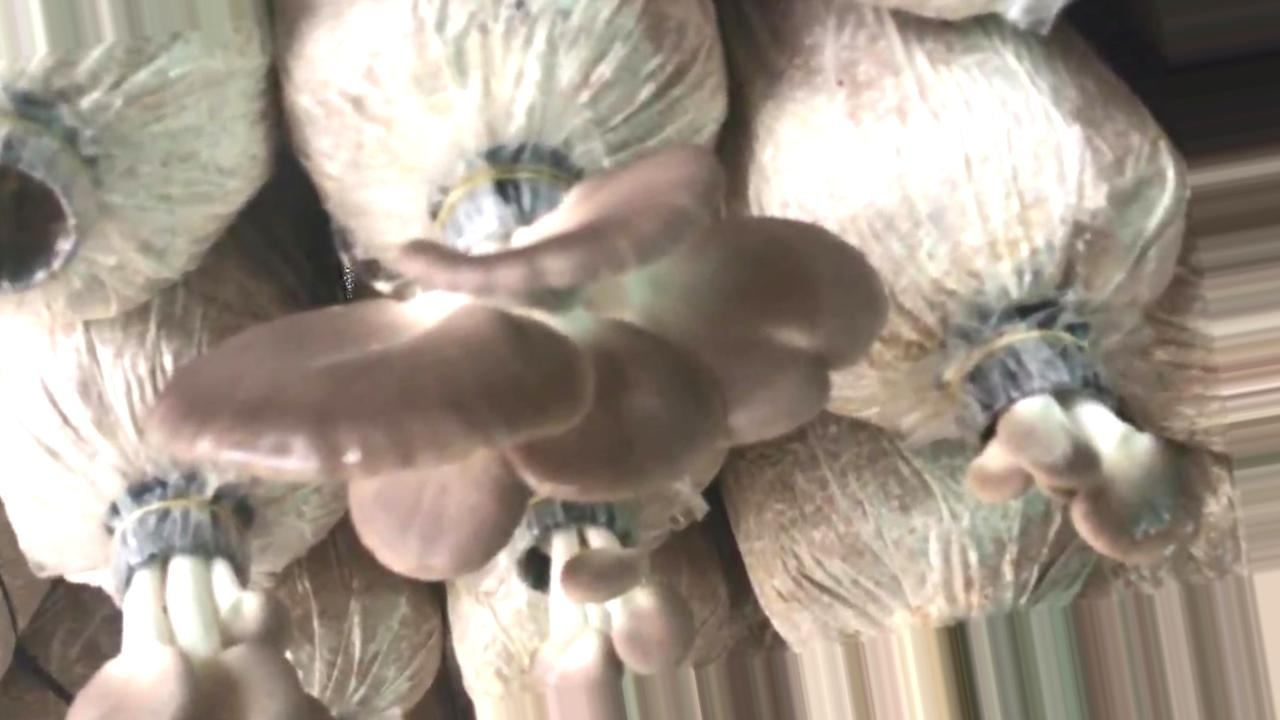nam: (139, 142, 891, 581), (65, 478, 332, 720), (964, 317, 1205, 570), (514, 496, 699, 720)
